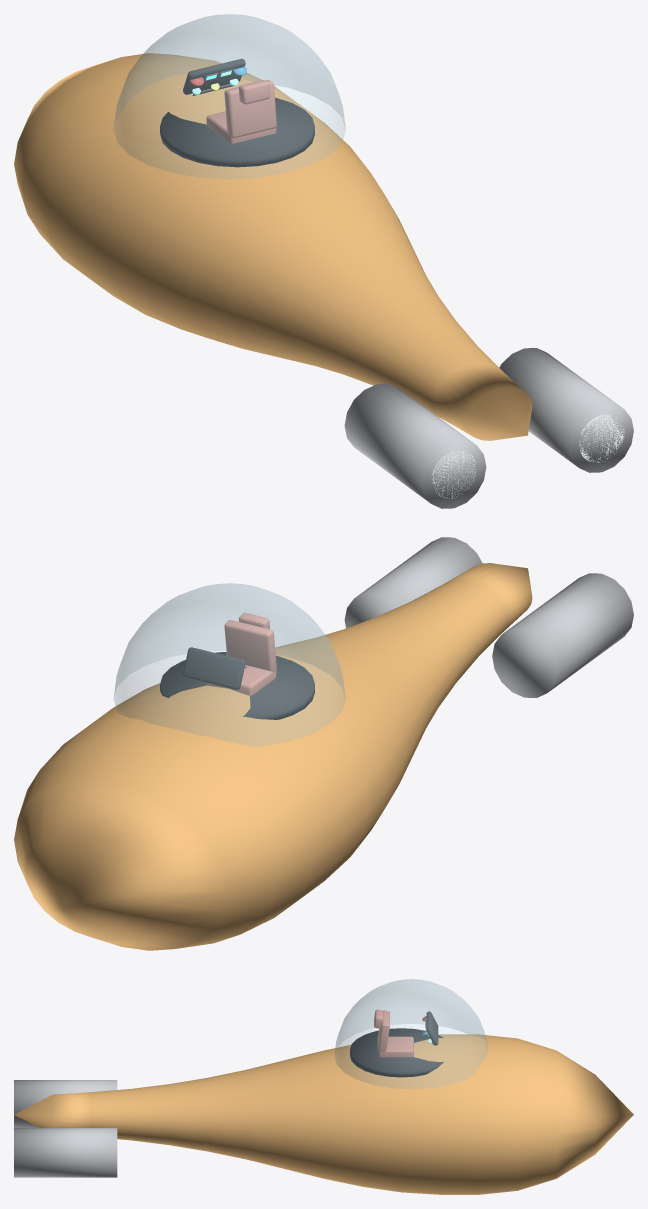
File: spaceship.glb
The picture shows the model from 3 angles, top to bottom: view 1: azimuth 30°, elevation 25°; view 2: azimuth 150°, elevation 25°; view 3: azimuth 270°, elevation 25°; orthographic projection. The views are drawn at different scales.
Visible parts, largest first — view 1: Hull, CockpitDome, Nacelle_R, Nacelle_L, CockpitFloor, Seat_Back, Dashboard, ThrusterGlow_L, Seat_Base; view 2: Hull, CockpitDome, Nacelle_R, Nacelle_L, CockpitFloor, Seat_Back, Dashboard, Seat_Base; view 3: Hull, CockpitDome, Nacelle_L, CockpitFloor, Nacelle_R, Seat_Base, Seat_Back, Dashboard.
Part boxes in pixels (x1,y1,x2,y2): Hull: (14, 53, 532, 440); CockpitDome: (114, 14, 345, 178); Nacelle_R: (344, 384, 486, 508); Nacelle_L: (499, 348, 633, 472); CockpitFloor: (160, 97, 314, 167); Seat_Back: (224, 80, 276, 138); Dashboard: (183, 58, 245, 94); ThrusterGlow_L: (579, 414, 624, 462); Seat_Base: (206, 111, 276, 143); Hull: (14, 563, 532, 950); CockpitDome: (114, 583, 345, 746); Nacelle_R: (492, 573, 633, 697); Nacelle_L: (344, 537, 482, 628); CockpitFloor: (160, 652, 314, 719); Seat_Back: (224, 620, 276, 672); Dashboard: (183, 647, 245, 689); Seat_Base: (206, 665, 276, 695); Hull: (14, 1034, 633, 1194); CockpitDome: (334, 979, 487, 1088); Nacelle_L: (14, 1128, 117, 1177); CockpitFloor: (350, 1028, 443, 1077); Nacelle_R: (14, 1080, 117, 1127); Seat_Base: (378, 1036, 413, 1057); Seat_Back: (377, 1010, 389, 1053); Dashboard: (426, 1011, 438, 1045).
Size of the model in its own units: 2 by 2.09 by 6.
